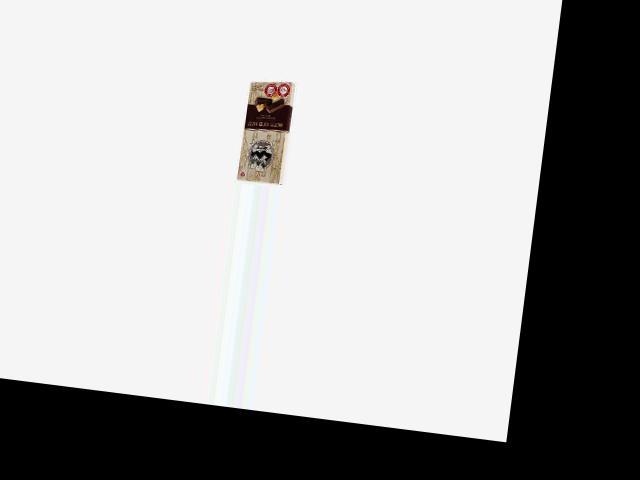chocolate: (235, 75, 303, 186)
